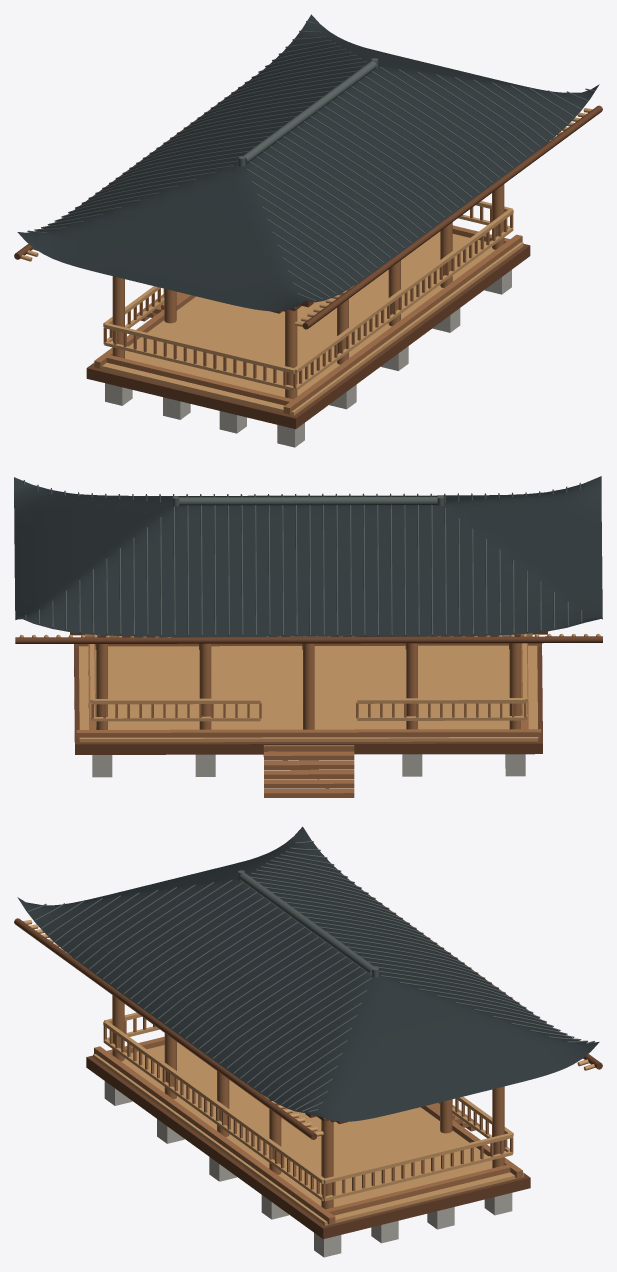
The picture shows the model from 3 angles, top to bottom: view 1: azimuth 30°, elevation 25°; view 2: azimuth 150°, elevation 25°; view 3: azimuth 270°, elevation 25°; orthographic projection.
Parts seen in each view (by area): view 1: tile, lightwood, tileedge, wood, darkwood, stone; view 2: tile, lightwood, wood, tileedge, darkwood, stone; view 3: tile, lightwood, tileedge, wood, darkwood, stone.
Part boxes in pixels (x1,y1,x2,y2): tile: (17,14,599,311); lightwood: (20,108,592,415); tileedge: (27,21,594,301); wood: (94,184,522,414); darkwood: (14,78,602,429); stone: (105,270,511,447); tile: (14,476,602,636); lightwood: (19,633,600,742); wood: (75,643,541,797); tileedge: (23,480,582,635); darkwood: (15,631,602,754); stone: (92,754,525,777); tile: (17,826,599,1121); lightwood: (23,920,595,1225); tileedge: (27,841,594,1112); wood: (94,995,522,1224); darkwood: (14,890,602,1239); stone: (104,1081,512,1257).
Bounding box in the file's own units: 20.97 × 7.99 × 18.17.
